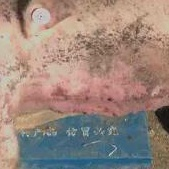text: (22, 0, 59, 37)
